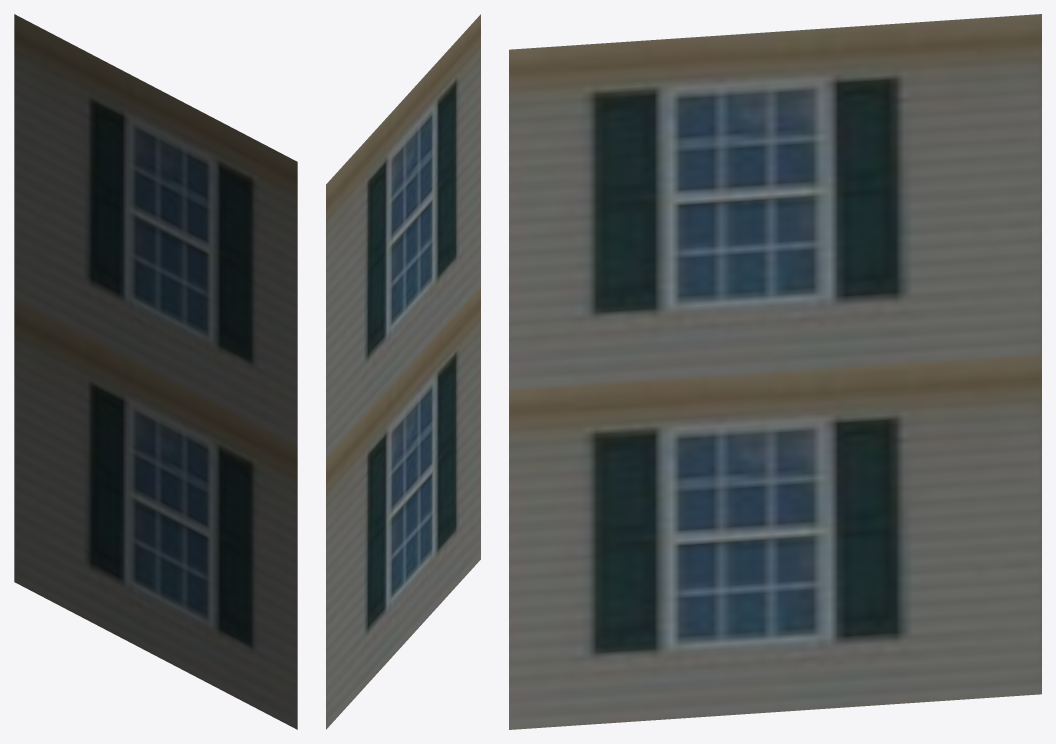
The model's file is ResTex__2648.fbx.
3 renders of one model, left to right at view 1: azimuth 30°, elevation 25°; view 2: azimuth 150°, elevation 25°; view 3: azimuth 270°, elevation 25°, orthographic. The views are drawn at different scales.
Visible parts, largest first — view 1: CityEngineMaterial_7_m; view 2: CityEngineMaterial_7_m; view 3: CityEngineMaterial_7_m.
Part boxes in pixels (x1=…): CityEngineMaterial_7_m: x1=14, y1=14, x2=297, y2=729; CityEngineMaterial_7_m: x1=326, y1=14, x2=480, y2=729; CityEngineMaterial_7_m: x1=509, y1=14, x2=1041, y2=729.
Size of the model in its own units: 0.6743 by 6 by 4.26.
1 material, 1 textured.
